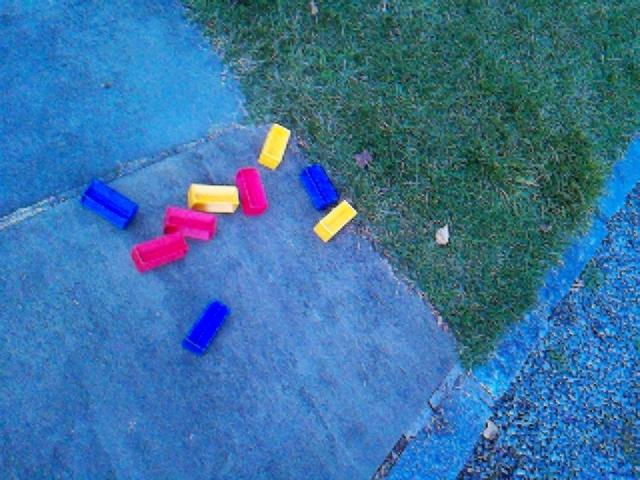blue: (80, 177, 140, 231), (181, 298, 232, 356), (299, 162, 341, 212)
red: (131, 230, 190, 274), (163, 205, 218, 242), (235, 166, 269, 217)
yellow: (313, 199, 359, 244), (187, 182, 240, 215), (257, 122, 292, 171)
